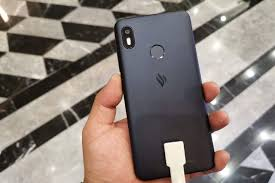vsmart: (109, 10, 218, 179)
